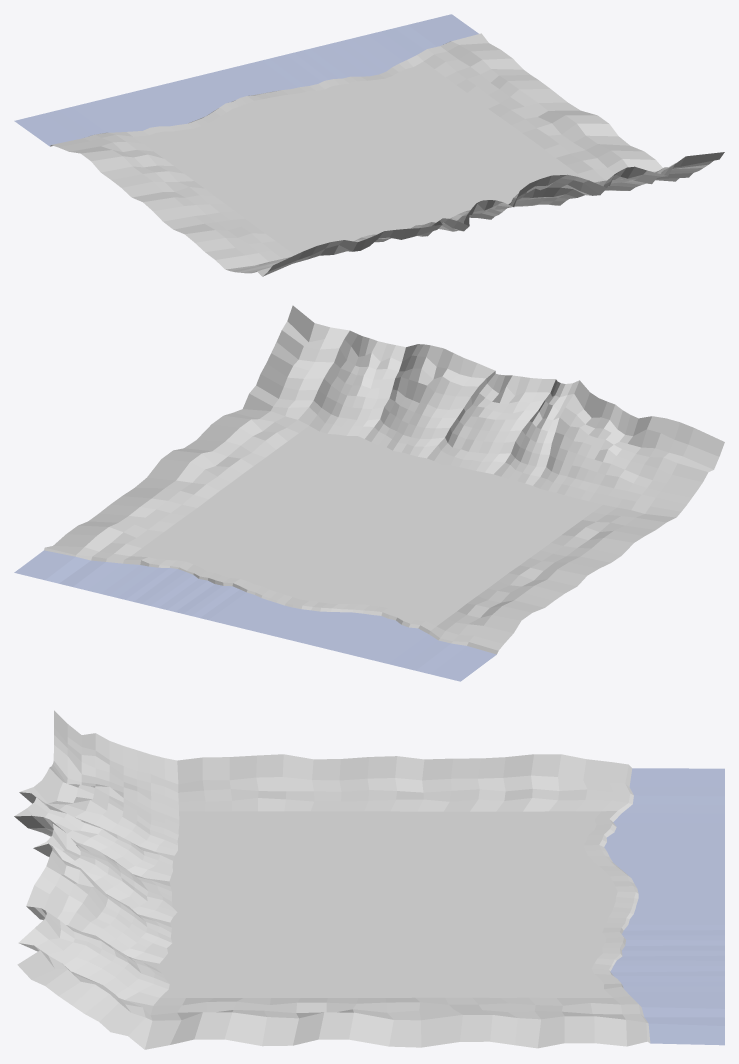
File: world.fbx
3 views of the same model, one above another, from view 1: azimuth 30°, elevation 25°; view 2: azimuth 150°, elevation 25°; view 3: azimuth 270°, elevation 25° (orthographic). The views are drawn at different scales.
Parts seen in each view (by area): view 1: Plane; view 2: Plane; view 3: Plane.
Boxes of the visible parts, bbox=[...] form: Plane: bbox=[14, 14, 724, 276]; Plane: bbox=[14, 305, 724, 681]; Plane: bbox=[14, 710, 724, 1049].
Size of the model in its own units: 83434 by 13084 by 90369.
